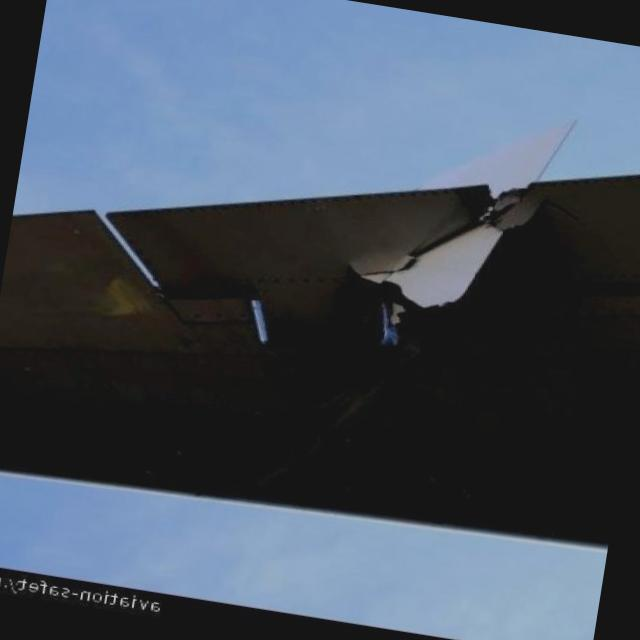crack: (344, 158, 542, 328)
